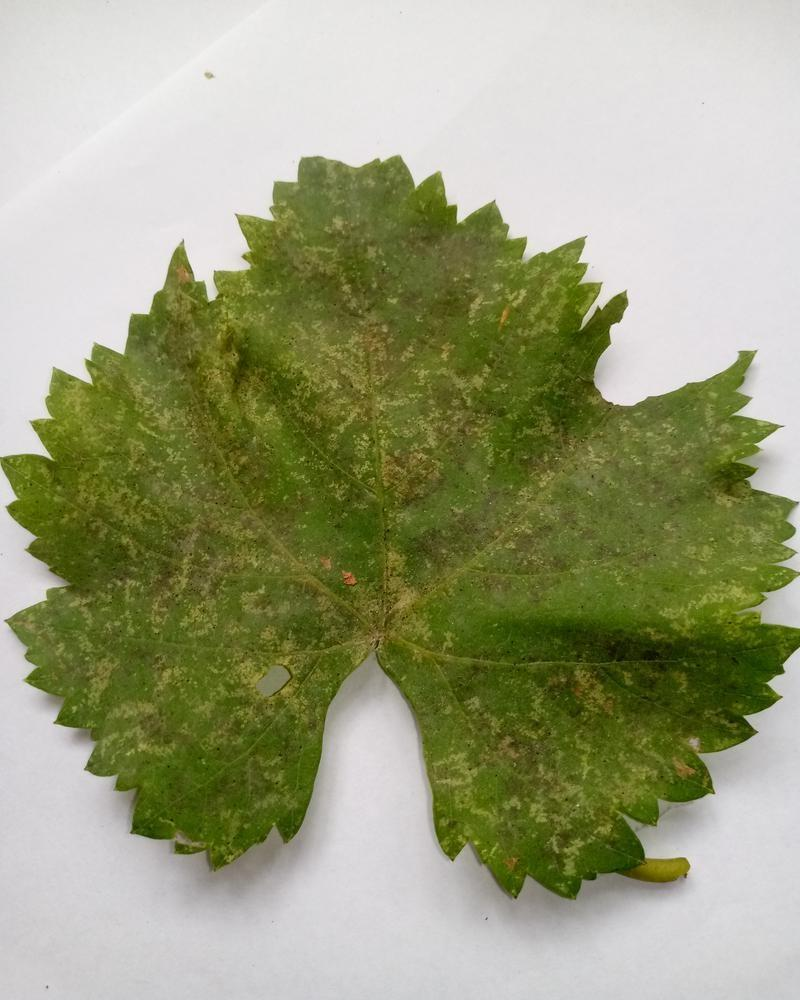Powdery-Mildew: (463, 404, 780, 626), (428, 658, 718, 876), (264, 226, 481, 505), (208, 517, 426, 758), (98, 264, 239, 607), (24, 587, 194, 778), (464, 237, 590, 375)
